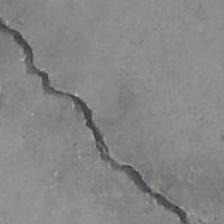Crack: (0, 10, 204, 224)
